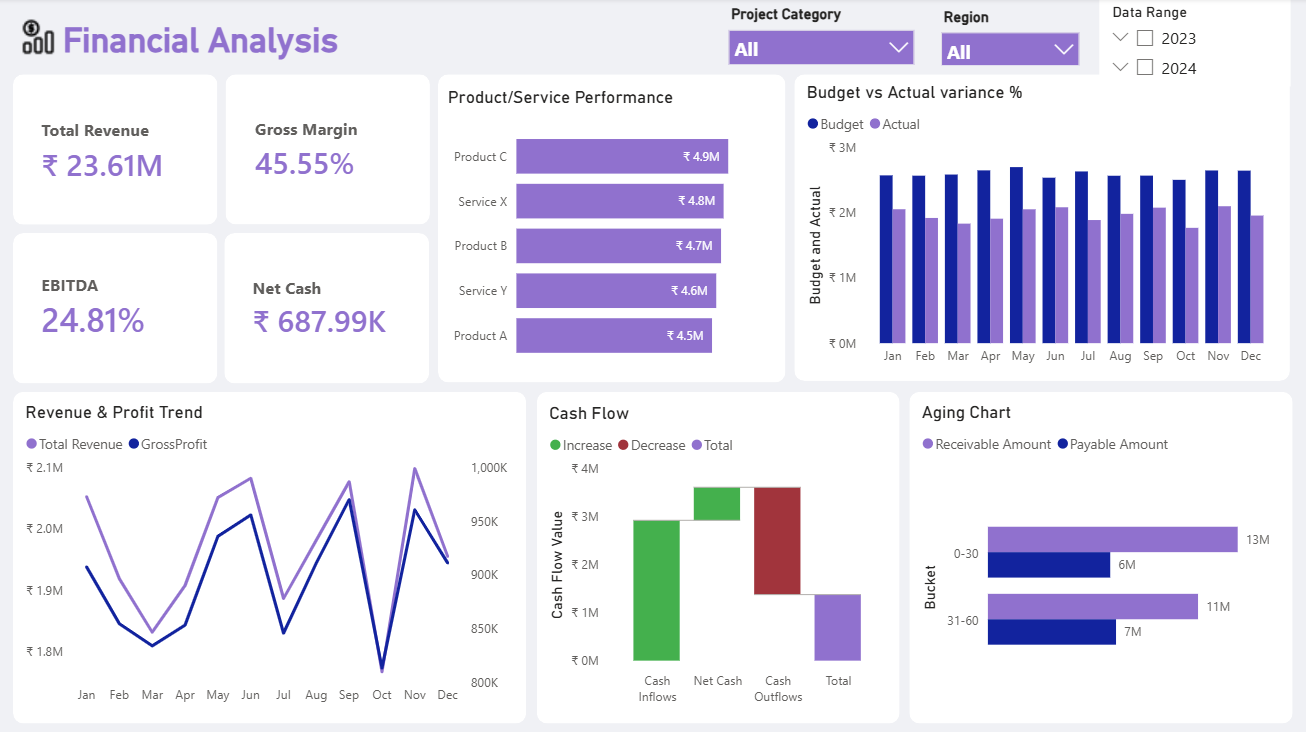

The dashboard page shown, as its layout file describes it:
{"tool":"powerbi","page":{"name":"Financial Report","canvas":[1280,720],"ordinal":0},"visuals":[{"type":"shape","title":"Background","box":[0,0,1279.7,719.9],"z":0},{"type":"textbox","title":"Title","box":[59.2,17.3,311.6,57.7],"z":1000},{"type":"image","title":"Logo","box":[15,20,50,36.7],"z":2000},{"type":"shape","box":[14.4,385.2,507.9,324.6],"z":3000},{"type":"shape","box":[14.4,75,262,147.2],"z":4000},{"type":"shape","box":[14.4,229.4,262,147.2],"z":5000},{"type":"shape","box":[532.4,385.2,431.4,324.6],"z":6000},{"type":"shape","box":[770.4,75,494.9,301.5],"z":7000},{"type":"shape","box":[973.9,385.2,295.8,323.2],"z":8000},{"type":"slicer","fields":{"Values":["Date Table.Year"]},"box":[1012.9,12.9,185.7,55.7],"z":9000},{"type":"shape","box":[551.1,75,213.5,301.5],"z":10000},{"type":"image","title":"Filter Icon","box":[1204.7,18.8,60.6,50.5],"z":11000},{"type":"lineChart","title":"Revenue & Profit Trend","fields":{"Y":["Dataset.Total Revenue","Dataset.GrossProfit"],"Category":["Date Table.Month Name"]},"box":[18.8,396.8,496.3,300.1],"z":13000},{"type":"lineChart","title":"Budget vs Actual variance %","fields":{"Category":["Date Table.Month Name"],"Y":["Dataset.Total Revenue","Dataset.Total Budget"]},"box":[777.6,83.7,480.4,284.2],"z":14000},{"type":"clusteredBarChart","title":"Product performance","fields":{"Category":["Dataset.Product/Service"],"Y":["Dataset.Total Revenue"]},"box":[981.1,395.3,281.3,300.1],"z":15000},{"type":"clusteredBarChart","title":"Receivables Aging","fields":{"Y":["Dataset.Total Revenue"],"Category":["Dataset.Receivable Bucket"]},"box":[555.5,83.7,204.9,284.2],"z":16000},{"type":"waterfallChart","fields":{"Y":["Dataset.Cash Flow Value"],"Category":["Cash Flow Axis.Type"]},"box":[545.4,396.8,379.4,301.5],"z":17000},{"type":"shape","box":[282.8,75,262,147.2],"z":18000},{"type":"shape","box":[282.8,229.4,262.6,147.2],"z":19000},{"type":"cardVisual","fields":{"Data":["Dataset.Total Revenue"]},"box":[14.4,75,190.4,98.1],"z":20000},{"type":"cardVisual","fields":{"Data":["Dataset.Gross Margin %"]},"box":[282.8,75,174.6,98.1],"z":21000},{"type":"cardVisual","fields":{"Data":["Dataset.EBITDA %"]},"box":[15.9,229.4,174.6,98.1],"z":22000},{"type":"cardVisual","fields":{"Data":["Dataset.Net Cash"]},"box":[282.8,229.4,190,98.1],"z":23000},{"type":"stackedAreaChart","fields":{"Category":["Date Table.Month Name"],"Y":["Dataset.Total Revenue"]},"box":[28.9,155.8,251,70.7],"z":24000},{"type":"stackedAreaChart","fields":{"Category":["Date Table.Month Name"],"Y":["Dataset.Net Cash"]},"box":[294.3,308.8,251,70.7],"z":25000},{"type":"stackedAreaChart","fields":{"Category":["Date Table.Month Name"],"Y":["Dataset.Gross Margin %"]},"box":[294.3,155.8,251,70.7],"z":26000},{"type":"stackedAreaChart","fields":{"Category":["Date Table.Month Name"],"Y":["Dataset.EBITDA %"]},"box":[24.5,307.3,251,70.7],"z":27000}]}

Visuals, with their boxes in screenshot pixels (x1, y1, x2, y2), scaled from the page's 1280x720 canvas onto the 1306x732 screenshot:
"Background" shape: (0, 0, 1305, 731)
"Title" textbox: (60, 18, 378, 76)
"Logo" image: (15, 20, 66, 58)
shape: (15, 392, 533, 722)
shape: (15, 76, 282, 226)
shape: (15, 233, 282, 383)
shape: (543, 392, 983, 722)
shape: (786, 76, 1291, 383)
shape: (994, 392, 1295, 720)
slicer - Date Table.Year: (1033, 13, 1223, 70)
shape: (562, 76, 780, 383)
"Filter Icon" image: (1229, 19, 1291, 70)
"Revenue & Profit Trend" lineChart: (19, 403, 526, 709)
"Budget vs Actual variance %" lineChart: (793, 85, 1284, 374)
"Product performance" clusteredBarChart: (1001, 402, 1288, 707)
"Receivables Aging" clusteredBarChart: (567, 85, 776, 374)
waterfallChart - Dataset.Cash Flow Value x Cash Flow Axis.Type: (556, 403, 944, 710)
shape: (289, 76, 556, 226)
shape: (289, 233, 556, 383)
cardVisual - Dataset.Total Revenue: (15, 76, 209, 176)
cardVisual - Dataset.Gross Margin %: (289, 76, 467, 176)
cardVisual - Dataset.EBITDA %: (16, 233, 194, 333)
cardVisual - Dataset.Net Cash: (289, 233, 482, 333)
stackedAreaChart - Date Table.Month Name x Dataset.Total Revenue: (29, 158, 286, 230)
stackedAreaChart - Date Table.Month Name x Dataset.Net Cash: (300, 314, 556, 386)
stackedAreaChart - Date Table.Month Name x Dataset.Gross Margin %: (300, 158, 556, 230)
stackedAreaChart - Date Table.Month Name x Dataset.EBITDA %: (25, 312, 281, 384)
